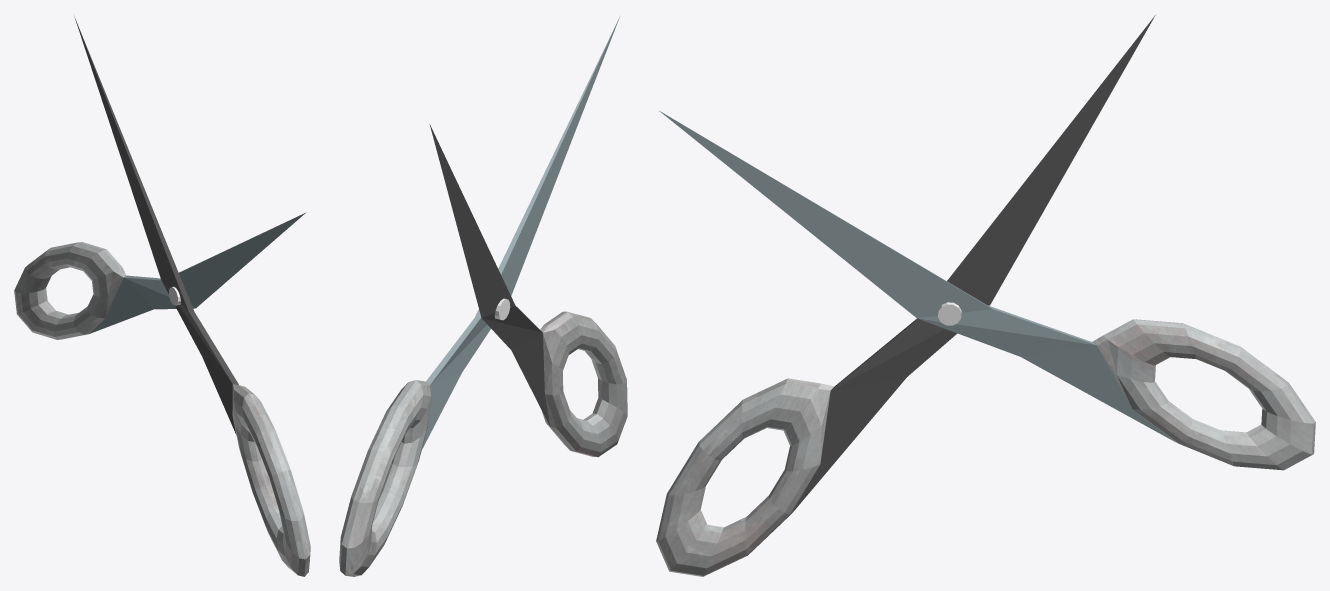
The model's file is scissors.obj.
The picture shows the model from 3 angles, left to right: view 1: azimuth 30°, elevation 25°; view 2: azimuth 150°, elevation 25°; view 3: azimuth 270°, elevation 25°; orthographic projection. The views are drawn at different scales.
Visible parts, largest first — view 1: group2140332494; view 2: group2140332494; view 3: group2140332494.
Boxes of the visible parts, left/top/right/bottom form: group2140332494: left=14, top=16, right=310, bottom=576; group2140332494: left=339, top=17, right=627, bottom=576; group2140332494: left=656, top=15, right=1315, bottom=576.
Bounding box in the file's own units: 0.4189 × 3.47 × 3.85.
